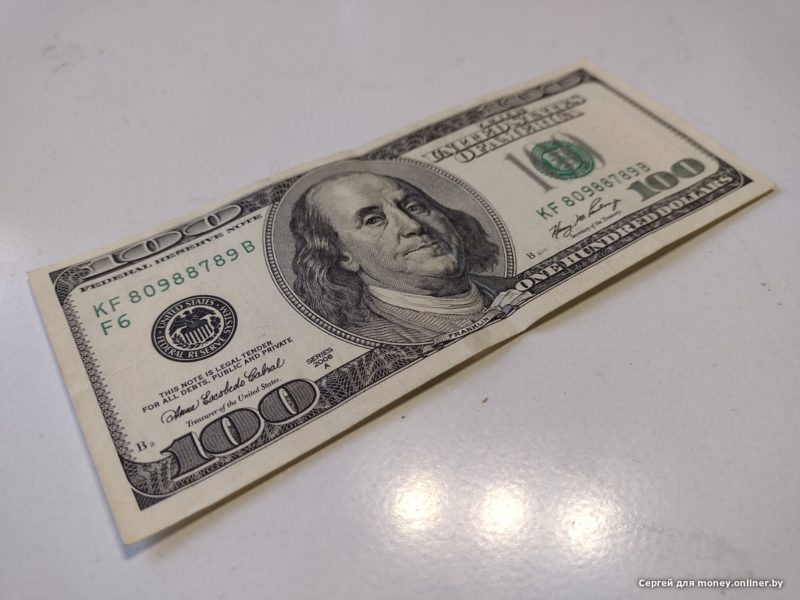cash: (26, 64, 773, 548)
